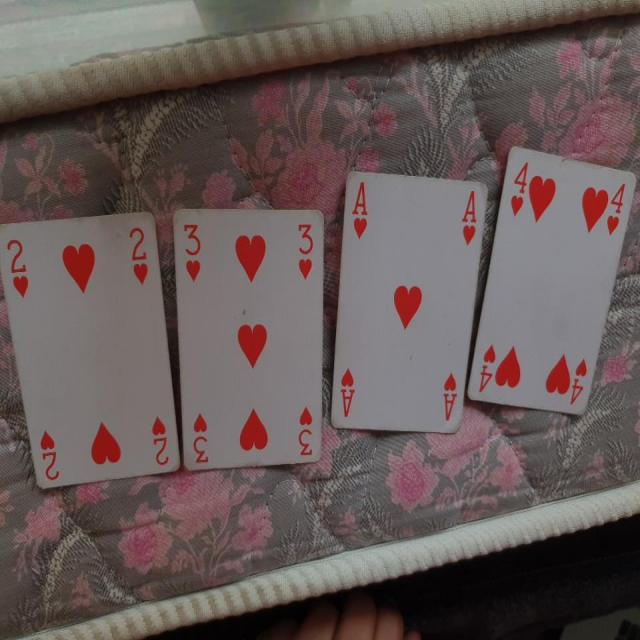2 Hearts: (2, 212, 183, 489)
3 Hearts: (165, 203, 328, 477)
4 Hearts: (470, 143, 640, 431)
A Hearts: (326, 164, 487, 434)
